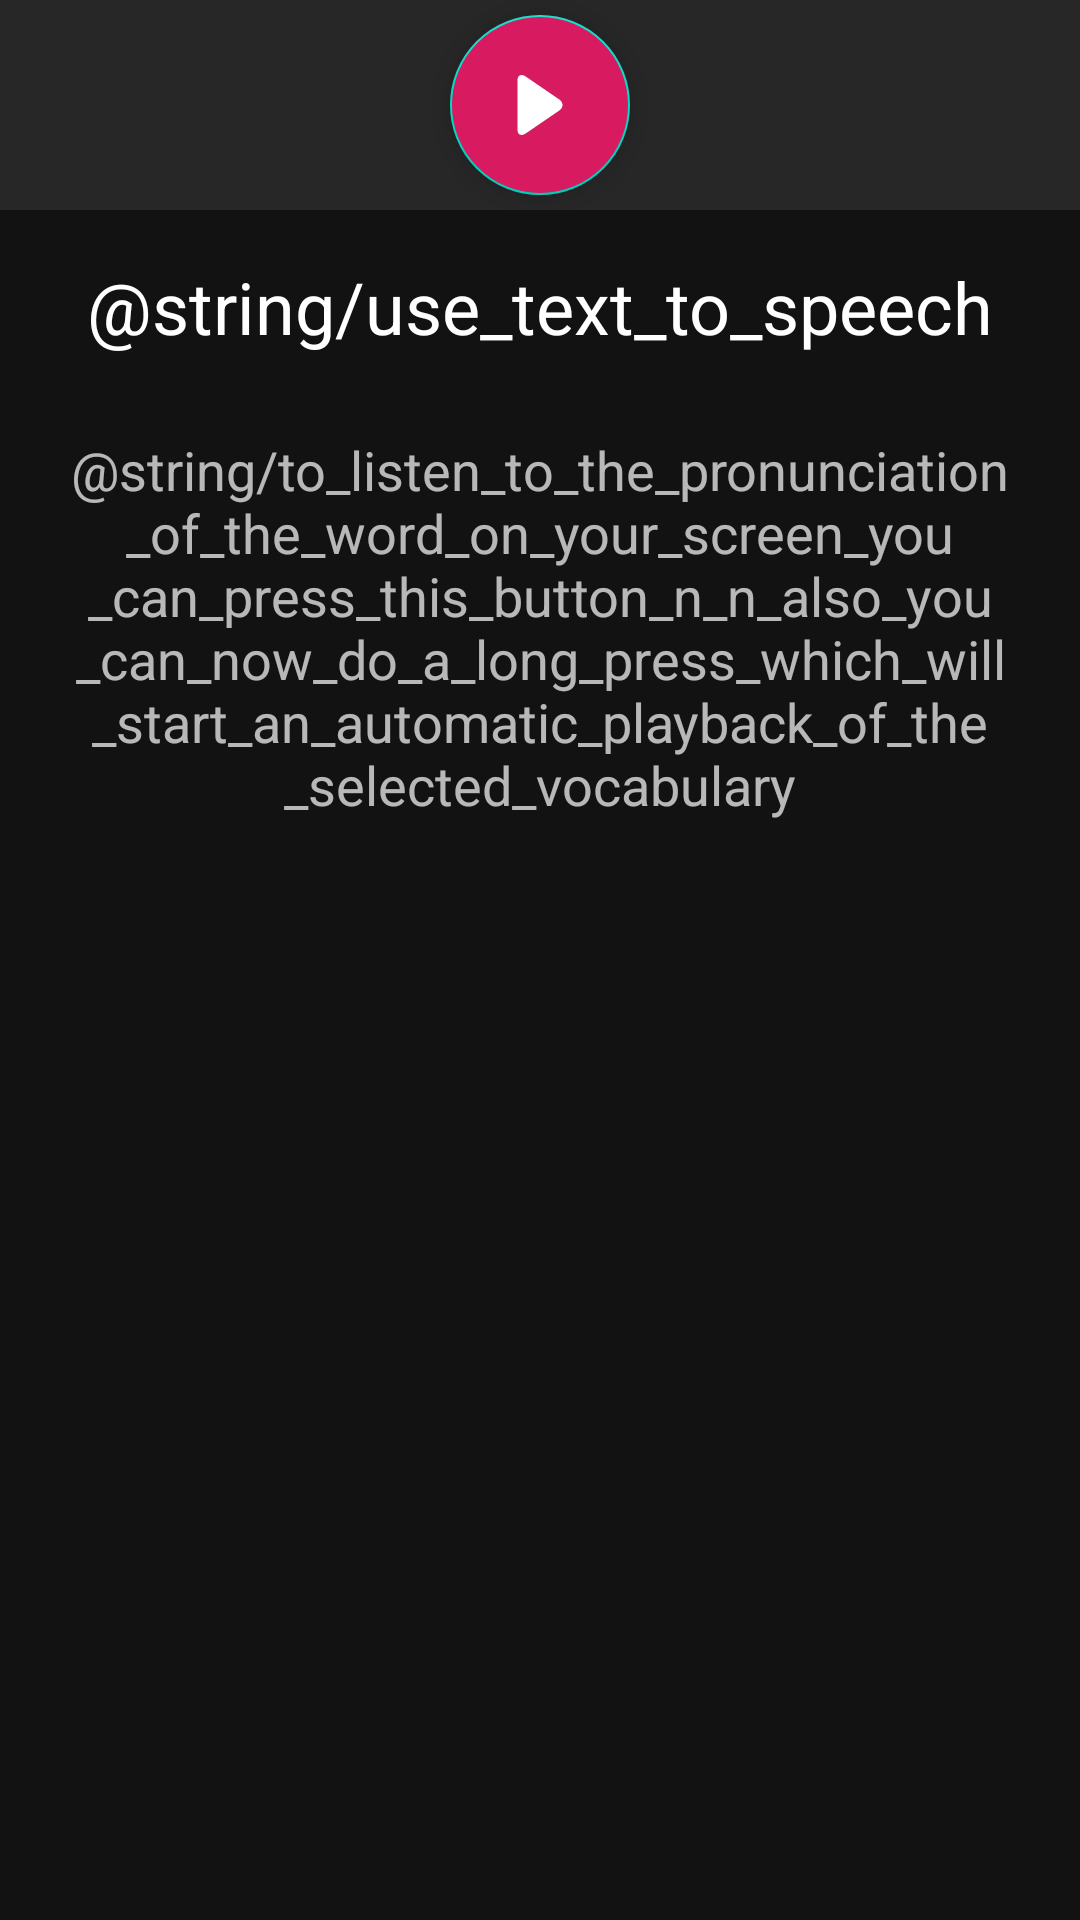

Locate icon controls on the screen. Image size 1080 x 1920, boxes as bbox=(x1, y1, x2, y2).
play: bbox=(517, 75, 563, 135)
